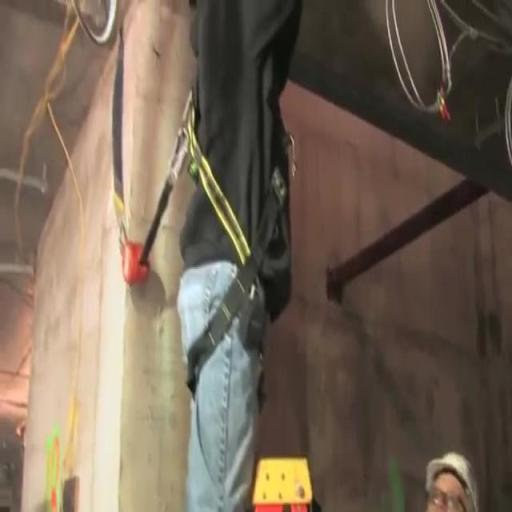helmet: (416, 436, 489, 510)
